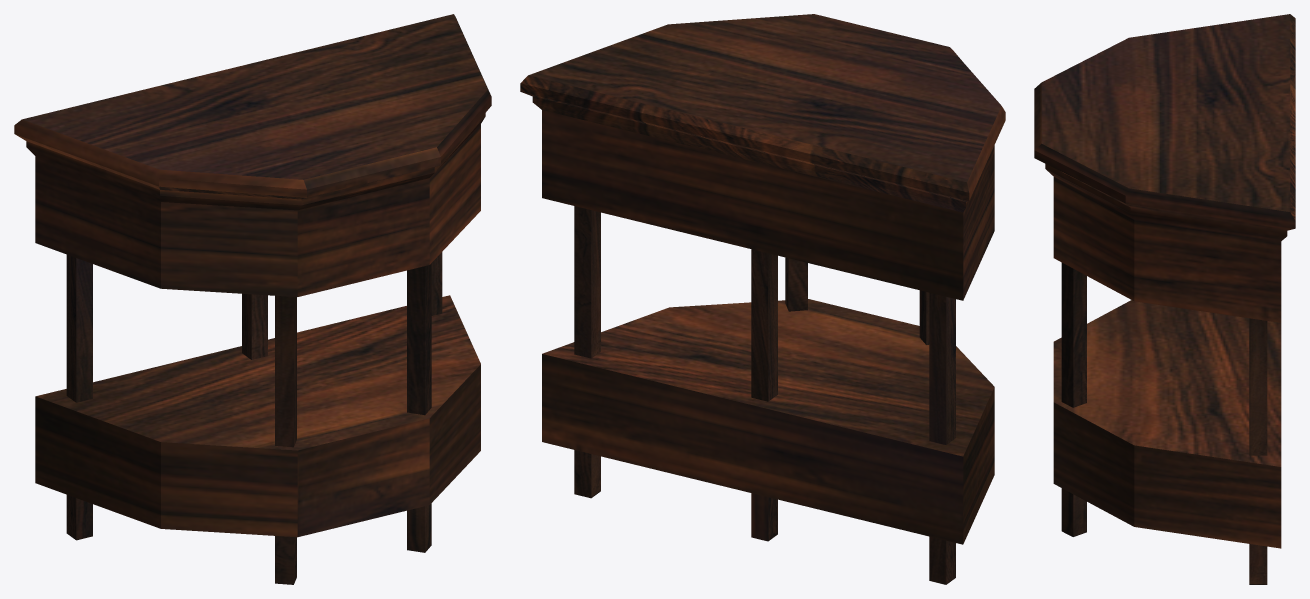
The model's file is HalfTableFBX.fbx.
3 renders of one model, left to right at view 1: azimuth 30°, elevation 25°; view 2: azimuth 150°, elevation 25°; view 3: azimuth 270°, elevation 25°, orthographic. The views are drawn at different scales.
Visible parts, largest first — view 1: pCube13; view 2: pCube13; view 3: pCube13.
Boxes of the visible parts, x1=… form: pCube13: x1=14, y1=14, x2=491, y2=584; pCube13: x1=520, y1=14, x2=1005, y2=584; pCube13: x1=1034, y1=14, x2=1295, y2=584.
Size of the model in its own units: 5.33 by 4.76 by 2.9.
